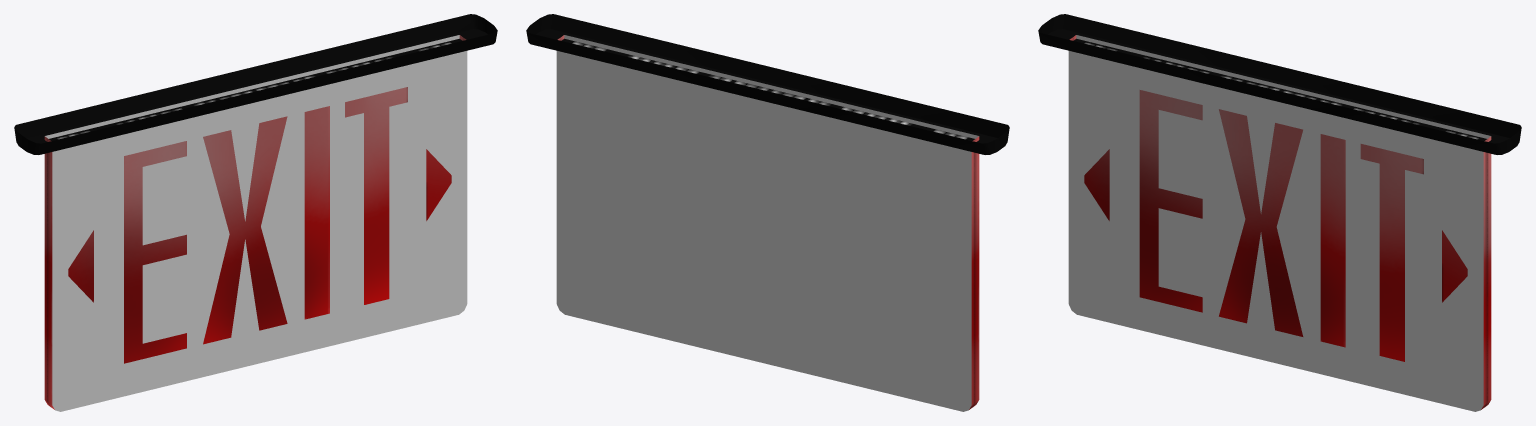
Rendered from Exit Sign.fbx.
3 views of the same model, side by side, from view 1: azimuth 30°, elevation 25°; view 2: azimuth 150°, elevation 25°; view 3: azimuth 330°, elevation 25° (orthographic).
Parts seen in each view (by area): view 1: EXITSign.001; view 2: EXITSign.001; view 3: EXITSign.001.
Part boxes in pixels (x1,y1,x2,y2): EXITSign.001: (14, 14, 497, 411); EXITSign.001: (526, 14, 1009, 411); EXITSign.001: (1038, 14, 1521, 411).
Size of the model in its own units: 48.05 by 27.73 by 4.57.
